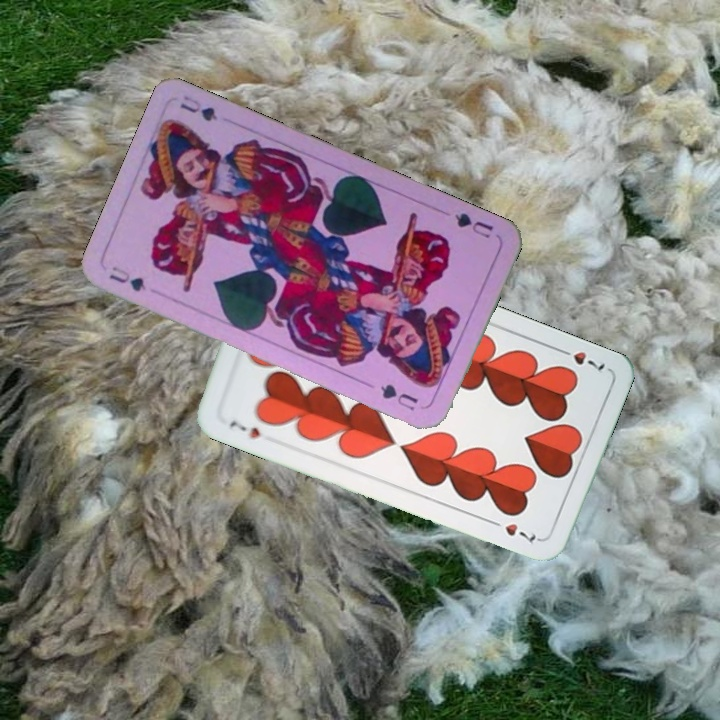GU: (450, 209, 496, 241), (105, 262, 149, 294)
H7: (553, 343, 608, 374), (225, 416, 263, 441)
